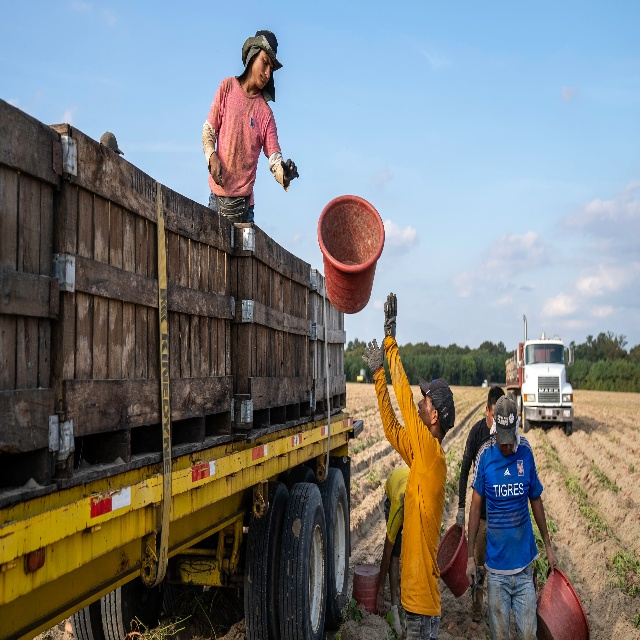Guantes: (382, 292, 399, 339), (363, 338, 387, 371), (280, 156, 299, 183), (469, 571, 485, 601), (456, 508, 466, 526)
Sin_guantes: (210, 155, 223, 189), (466, 556, 477, 586), (547, 546, 557, 574), (376, 590, 384, 616)
